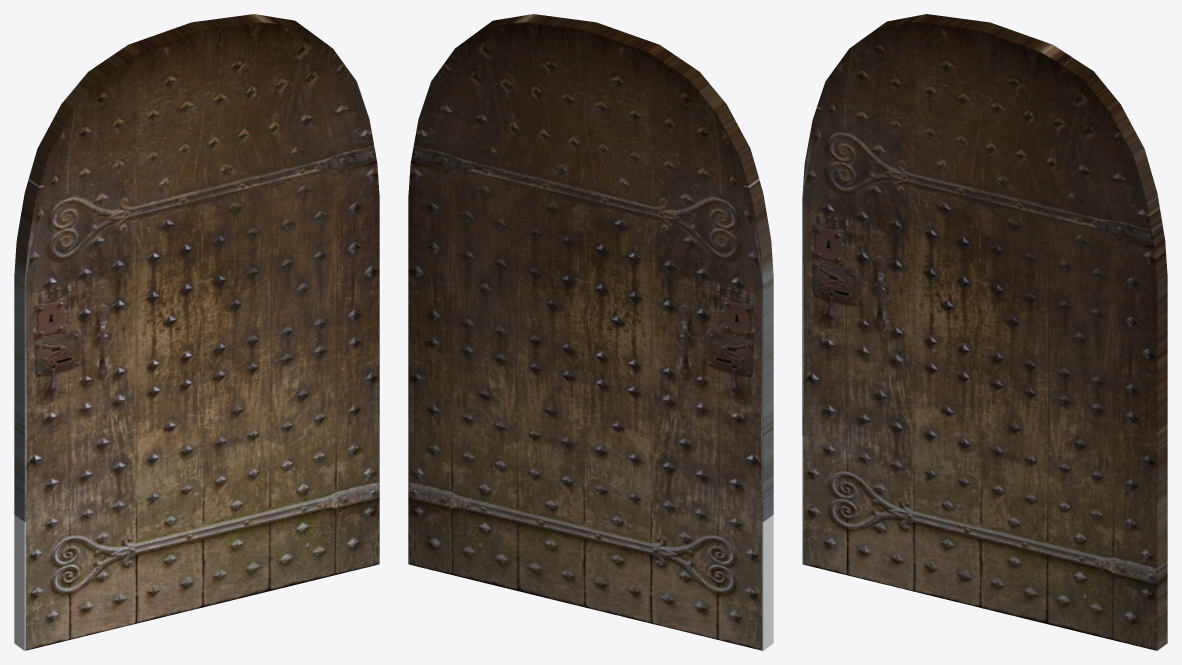
Rendered from House_Door.FBX.
The picture shows the model from 3 angles, left to right: view 1: azimuth 30°, elevation 25°; view 2: azimuth 150°, elevation 25°; view 3: azimuth 330°, elevation 25°; orthographic projection.
Parts seen in each view (by area): view 1: House_Door; view 2: House_Door; view 3: House_Door.
Part boxes in pixels (bbox=[...]): House_Door: bbox=[14, 14, 379, 650]; House_Door: bbox=[408, 14, 773, 650]; House_Door: bbox=[802, 14, 1167, 650].
Bounding box in the file's own units: 144 × 224 × 7.51.
